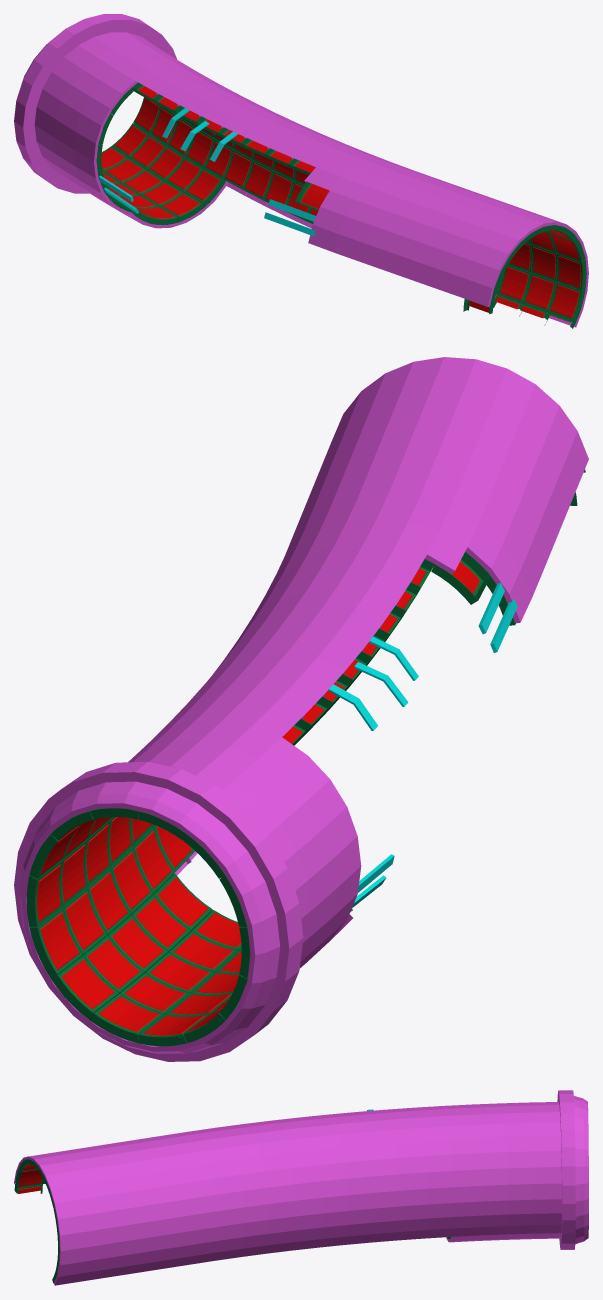
The model's file is 05_Tunnel.fbx.
3 renders of one model, top to bottom at view 1: azimuth 30°, elevation 25°; view 2: azimuth 150°, elevation 25°; view 3: azimuth 270°, elevation 25°, orthographic. The views are drawn at different scales.
Parts seen in each view (by area): view 1: RC_Tunnel1; view 2: RC_Tunnel1; view 3: RC_Tunnel1.
Boxes of the visible parts, left/top/right/bottom form: RC_Tunnel1: left=14, top=14, right=588, bottom=328; RC_Tunnel1: left=14, top=357, right=588, bottom=1061; RC_Tunnel1: left=14, top=1090, right=588, bottom=1285.
Bounding box in the file's own units: 9.64 × 5.63 × 20.36.
